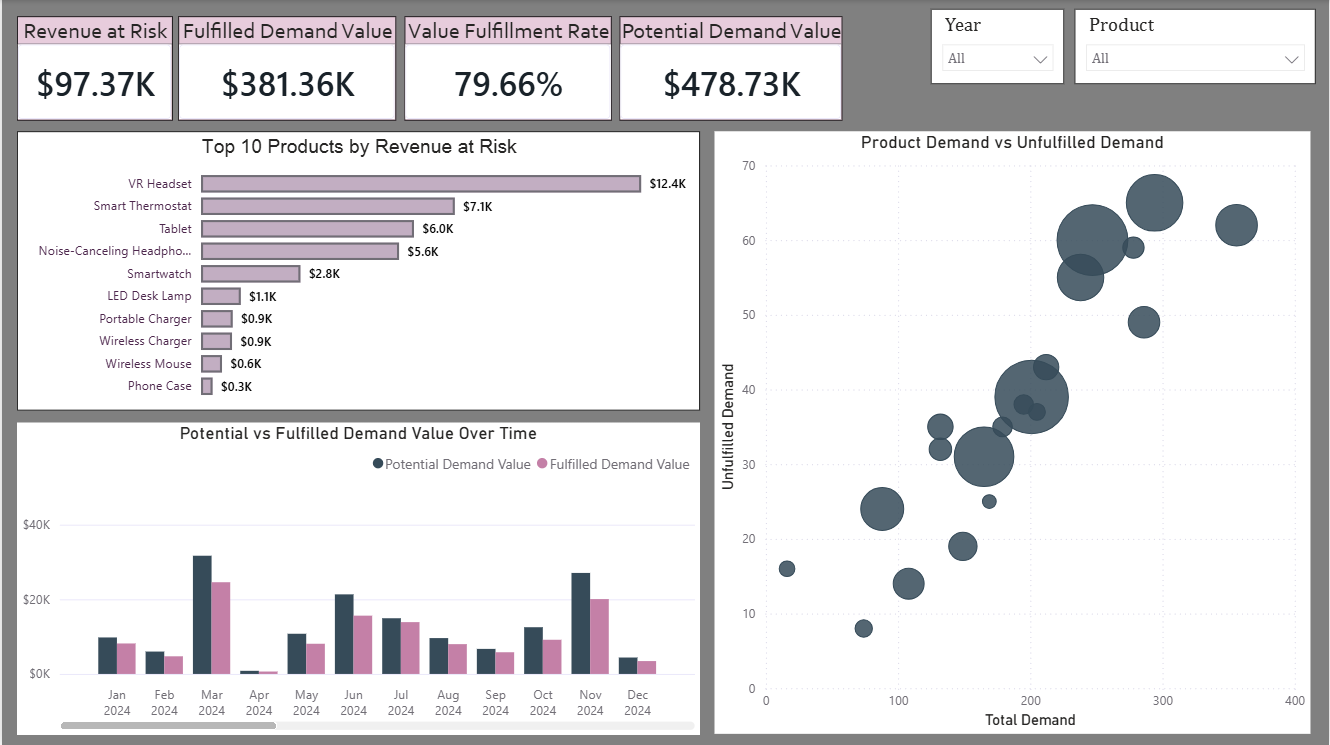

This screenshot's page, from the dashboard's own definition file:
{"tool":"powerbi","page":{"name":"Financial Impact","canvas":[1280,720],"ordinal":1},"visuals":[{"type":"cardVisual","title":"Revenue at Risk","fields":{"Data":["Measures Table.Revenue at Risk"]},"box":[14,15.3,150,100.5],"z":0},{"type":"cardVisual","title":"Potential Demand Value","fields":{"Data":["Measures Table.Potential Demand Value"]},"box":[596,15.3,215.1,100.5],"z":1000},{"type":"cardVisual","title":"Fulfilled Demand Value","fields":{"Data":["Measures Table.Fulfilled Demand Value"]},"box":[170,15.3,210,100.5],"z":2000},{"type":"cardVisual","title":"Value Fulfillment Rate","fields":{"Data":["Measures Table.Value Fulfillment Rate"]},"box":[388,15.3,200,100.5],"z":3000},{"type":"barChart","title":"Top 10 Products by Revenue at Risk","fields":{"Category":["Test Environment Inventory.product_name"],"Y":["Measures Table.Revenue at Risk"]},"box":[14,127.3,659.2,269.8],"z":4000},{"type":"clusteredColumnChart","title":"Potential vs Fulfilled Demand Value Over Time","fields":{"Category":["Date Table.Month Year"],"Y":["Measures Table.Potential Demand Value","Measures Table.Fulfilled Demand Value"]},"box":[14,407.2,659.2,301.6],"z":5000},{"type":"scatterChart","title":"Product Demand vs Unfulfilled Demand","fields":{"X":["Measures Table.Total Demand"],"Y":["Measures Table.Unfulfilled Demand"],"Size":["Measures Table.Revenue at Risk"],"Category":["Test Environment Inventory.product_name"]},"box":[687.2,127.3,575.2,581.6],"z":6000},{"type":"slicer","fields":{"Values":["Date Table.Year"]},"box":[895.9,8.9,129,72.5],"z":6001},{"type":"slicer","fields":{"Values":["Test Environment Inventory.product_name"]},"box":[1034.6,8.9,232.9,72.5],"z":6002}]}

Visuals, with their boxes in screenshot pixels (x1, y1, x2, y2), scaled from the page's 1280x720 canvas onto the 1330x745 screenshot:
"Revenue at Risk" cardVisual: pyautogui.locateOnScreen(15, 16, 170, 120)
"Potential Demand Value" cardVisual: pyautogui.locateOnScreen(619, 16, 843, 120)
"Fulfilled Demand Value" cardVisual: pyautogui.locateOnScreen(177, 16, 395, 120)
"Value Fulfillment Rate" cardVisual: pyautogui.locateOnScreen(403, 16, 611, 120)
"Top 10 Products by Revenue at Risk" barChart: pyautogui.locateOnScreen(15, 132, 699, 411)
"Potential vs Fulfilled Demand Value Over Time" clusteredColumnChart: pyautogui.locateOnScreen(15, 421, 699, 733)
"Product Demand vs Unfulfilled Demand" scatterChart: pyautogui.locateOnScreen(714, 132, 1312, 734)
slicer - Date Table.Year: pyautogui.locateOnScreen(931, 9, 1065, 84)
slicer - Test Environment Inventory.product_name: pyautogui.locateOnScreen(1075, 9, 1317, 84)
